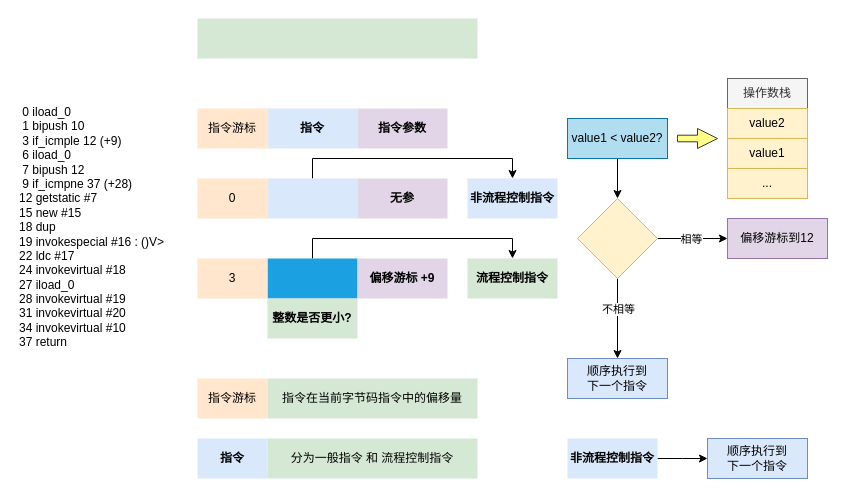
The diagram is 845 pixels wide and 496 high, and some of its shapes have lost their labels. The centre of each missing label's shape, as x and y in pixels:
if_icmple: (312,278)
iload_0: (312,198)
整数是否 更小?: (617,238)
流程控制-重点步骤解析: (337,38)
